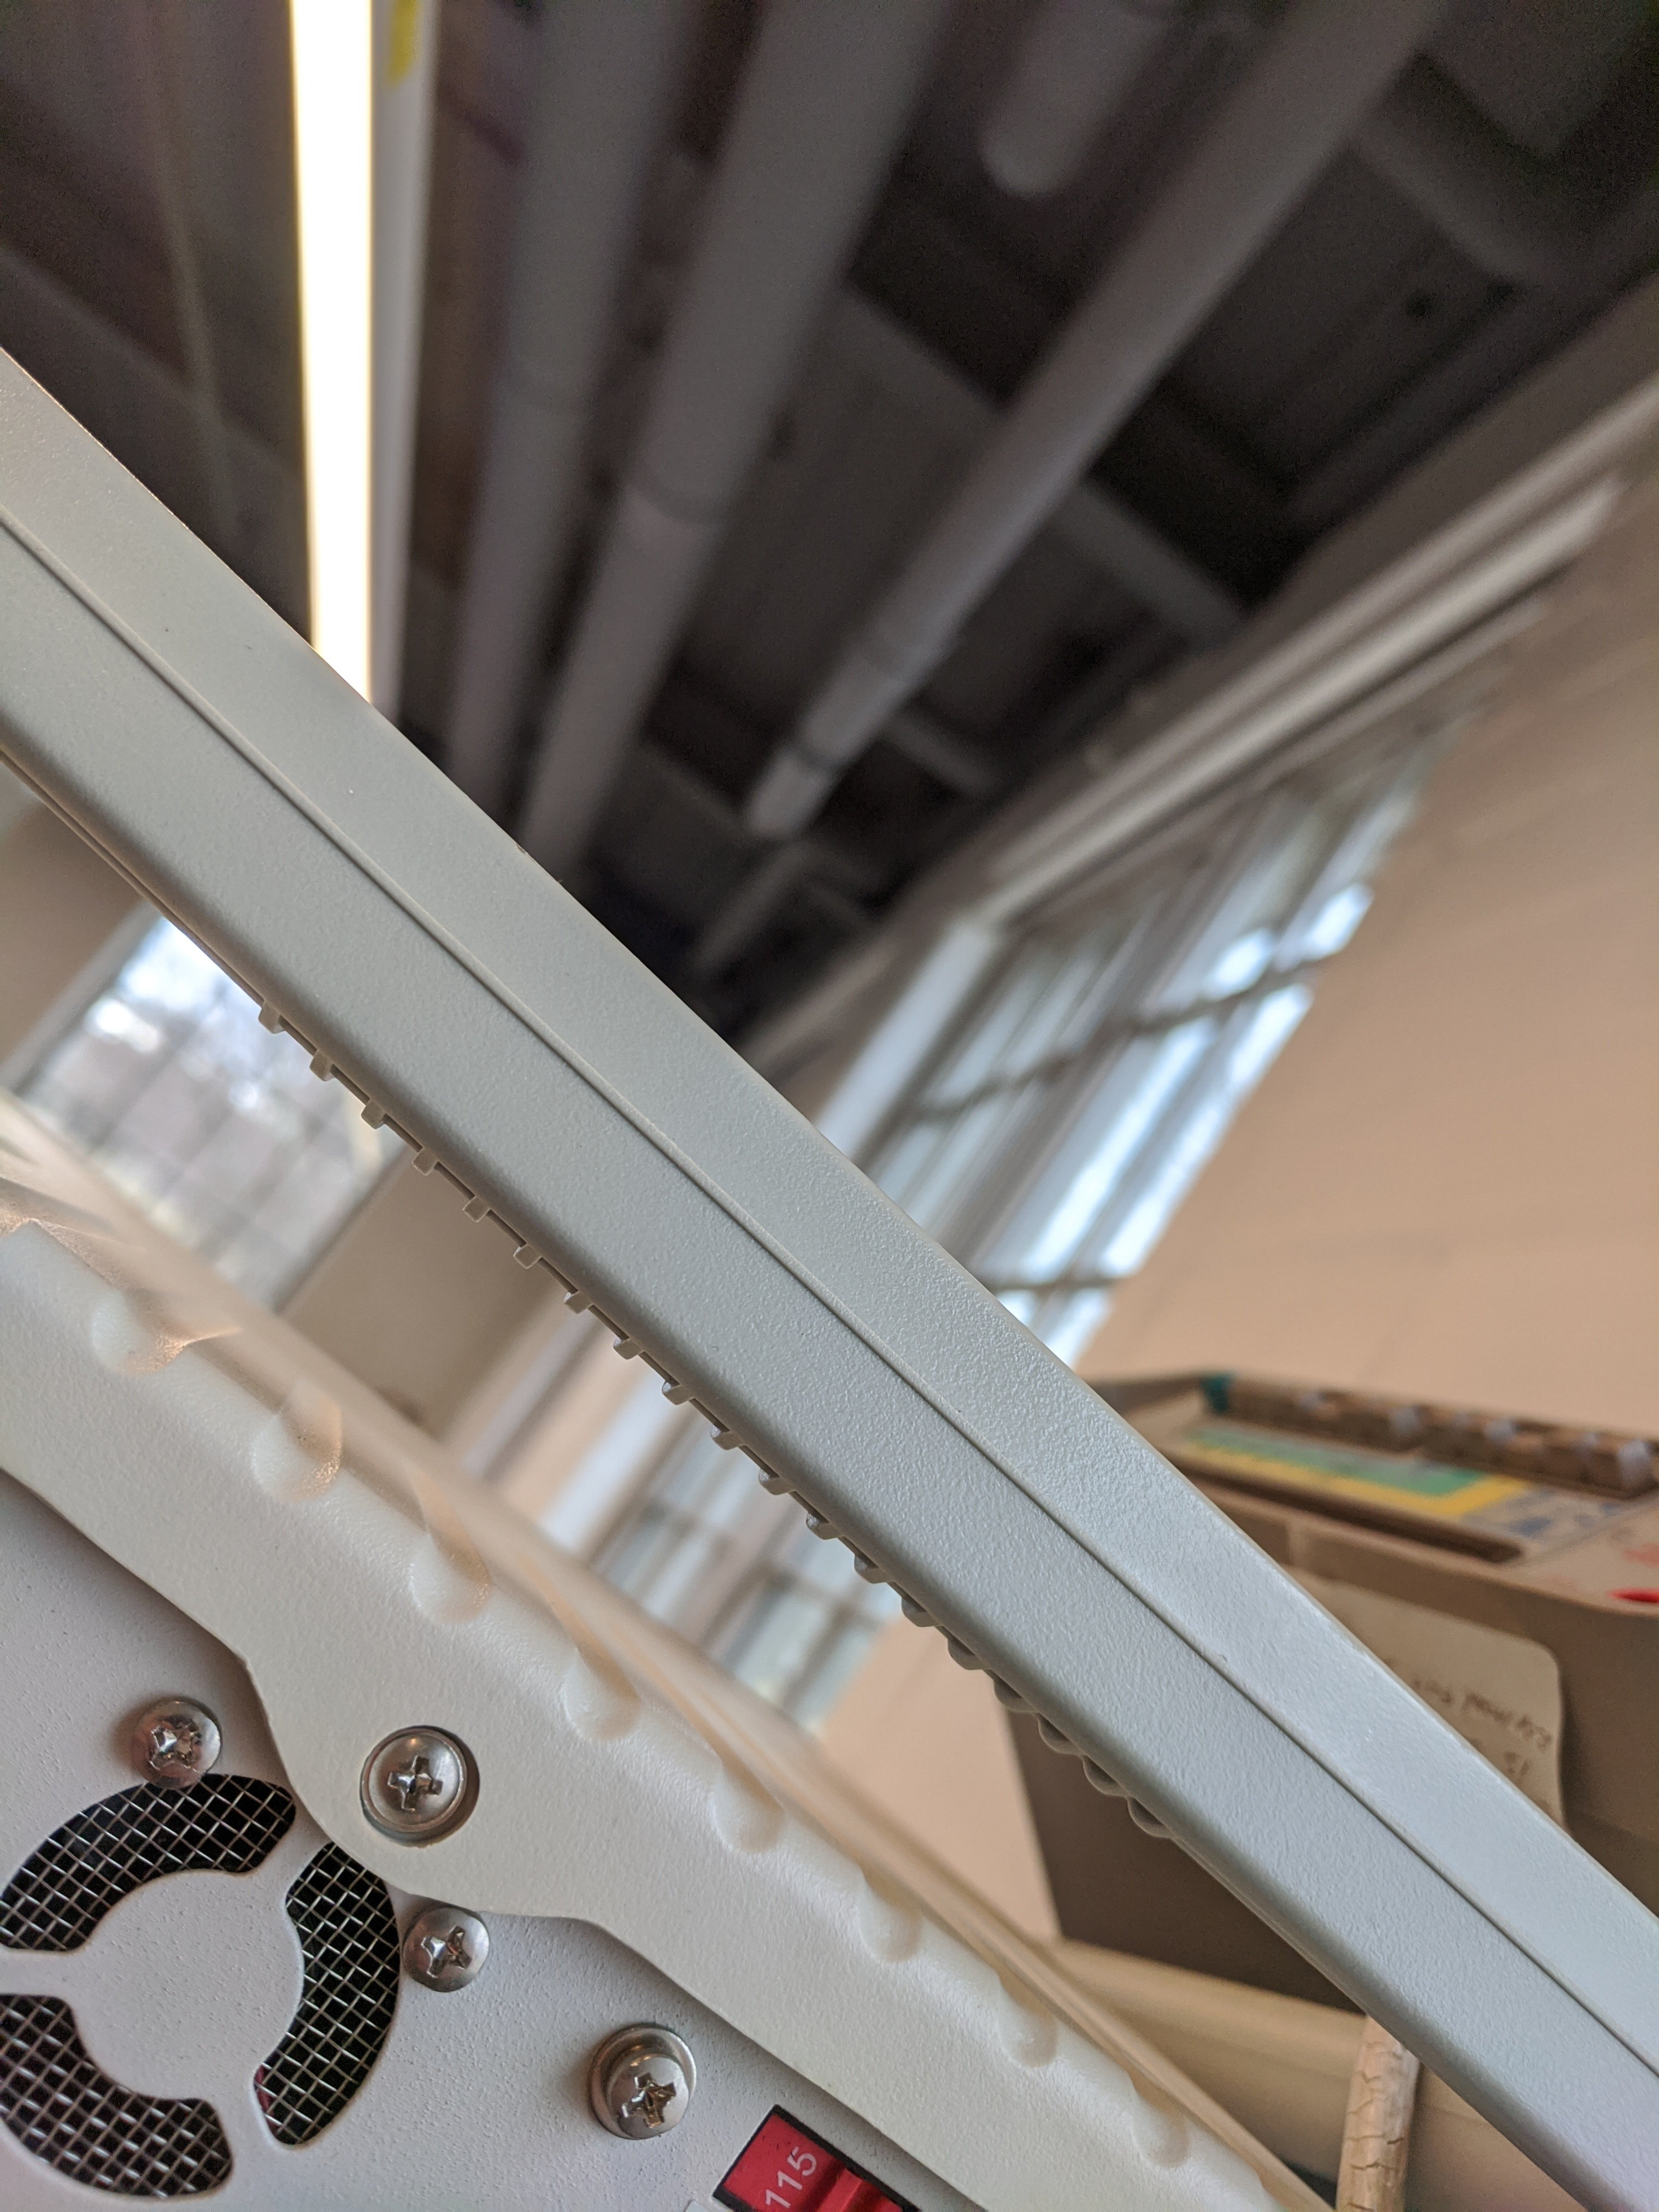cross_recessed_screw: (343, 1700, 472, 1836), (584, 2026, 695, 2141), (390, 1881, 497, 2001), (118, 1669, 218, 1775)
